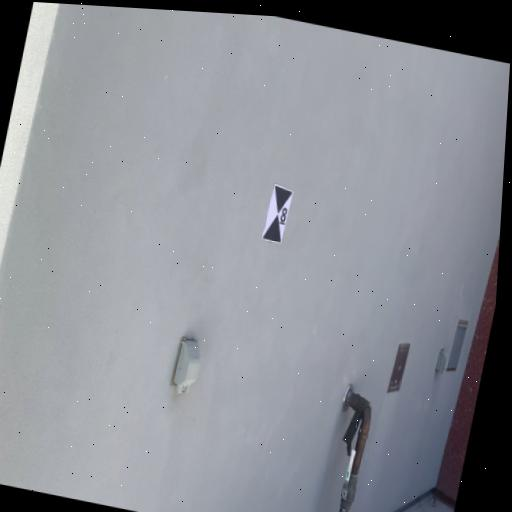target8: (261, 184, 294, 243)
